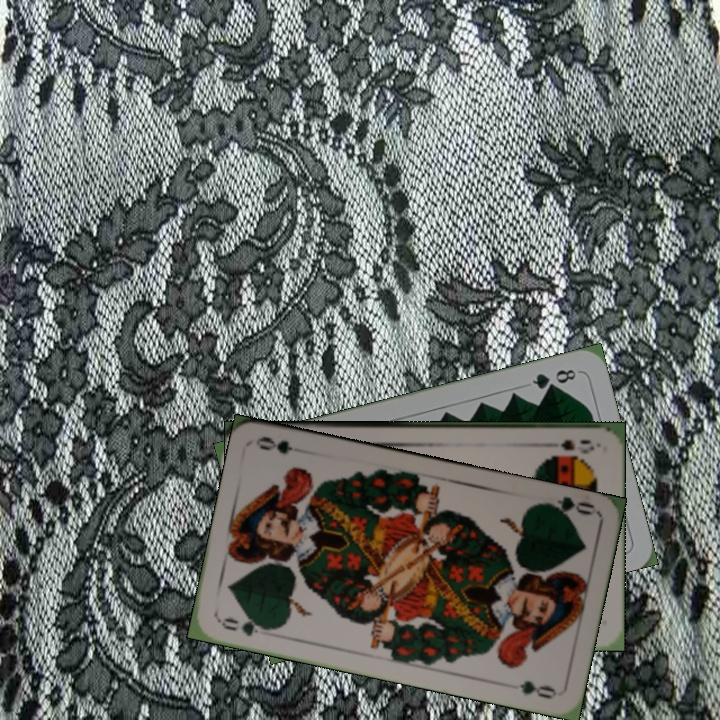G8: (528, 365, 579, 392)
GO: (538, 492, 597, 522), (215, 613, 275, 639)
SO: (556, 436, 596, 456)
